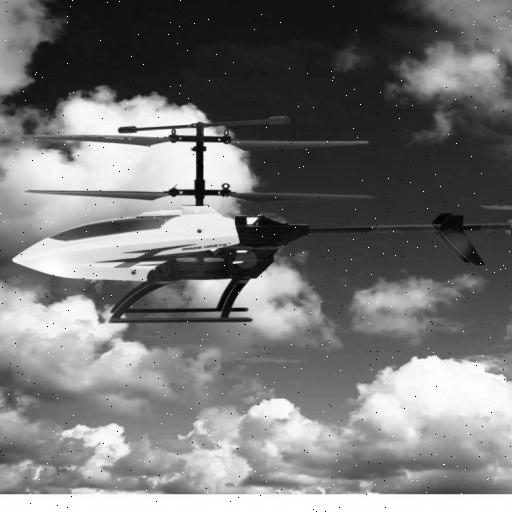helicopter: (18, 112, 512, 332)
